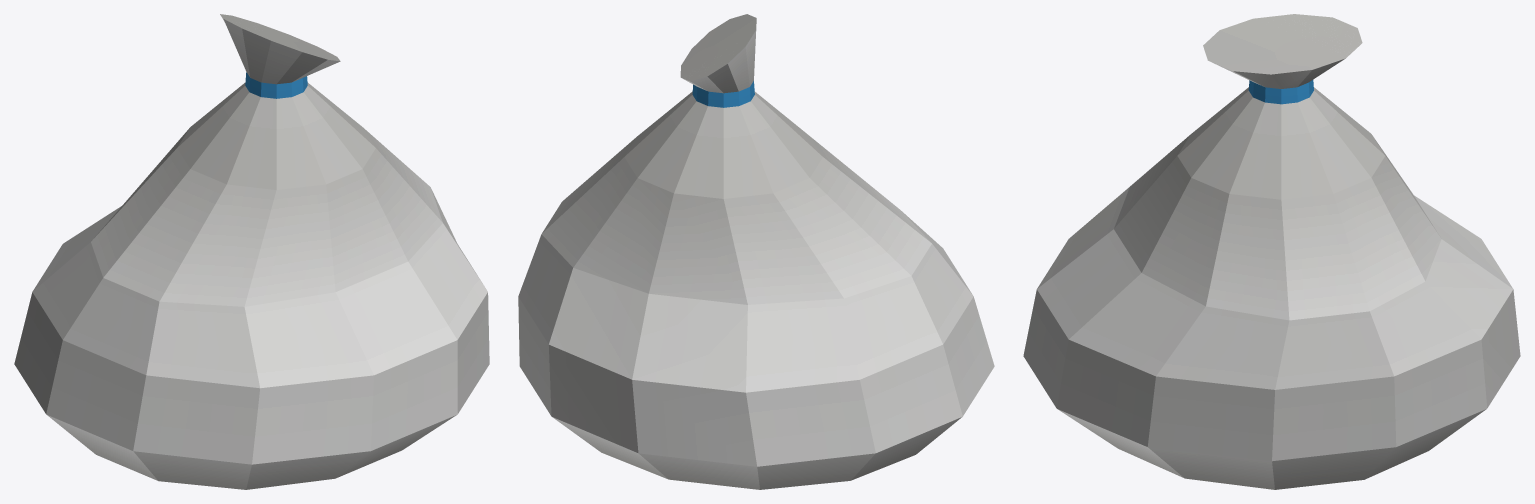
The model's file is trash_bag.fbx.
3 views of the same model, side by side, from view 1: azimuth 30°, elevation 25°; view 2: azimuth 150°, elevation 25°; view 3: azimuth 270°, elevation 25° (orthographic). The views are drawn at different scales.
Parts seen in each view (by area): view 1: Cylinder; view 2: Cylinder; view 3: Cylinder.
Boxes of the visible parts, <box> form: Cylinder: <box>14,14,489,489</box>; Cylinder: <box>518,14,994,489</box>; Cylinder: <box>1023,14,1520,489</box>.
Bounding box in the file's own units: 201 × 196 × 200.
Materials: 1 (1 with a texture image).
